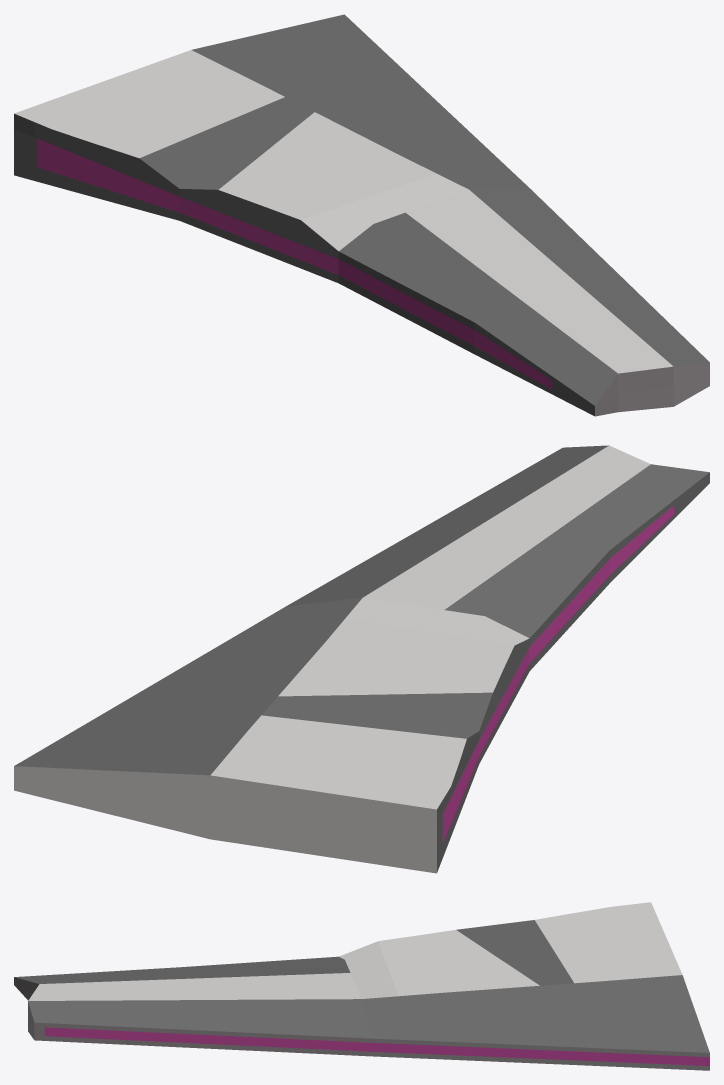
The model's file is sswingright.fbx.
3 renders of one model, top to bottom at view 1: azimuth 30°, elevation 25°; view 2: azimuth 150°, elevation 25°; view 3: azimuth 270°, elevation 25°, orthographic. The views are drawn at different scales.
Visible parts, largest first — view 1: wing right; view 2: wing right; view 3: wing right.
Part boxes in pixels (bbox=[...]): wing right: bbox=[14, 14, 709, 416]; wing right: bbox=[14, 445, 709, 873]; wing right: bbox=[14, 902, 709, 1070].
Bounding box in the file's own units: 188 × 30 × 406.
